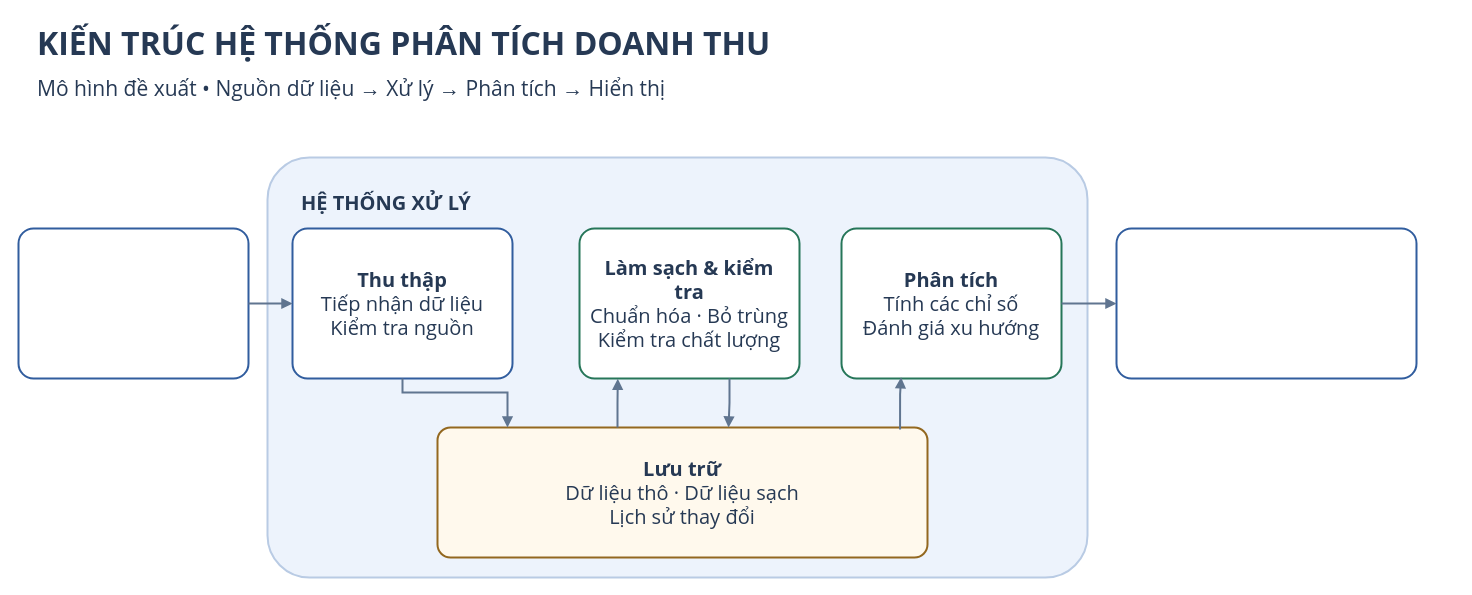
Image size: 1472x595. Some labels were removed from this diagram. Each missing label, with the centre of its shape:
"Dashboard & báo cáo Biểu đồ · Bộ lọc Theo dõi kết quả" belongs at (x=1266, y=303).
"Nguồn dữ liệu Dữ liệu kinh doanh Thực đơn công khai" belongs at (x=133, y=303).
